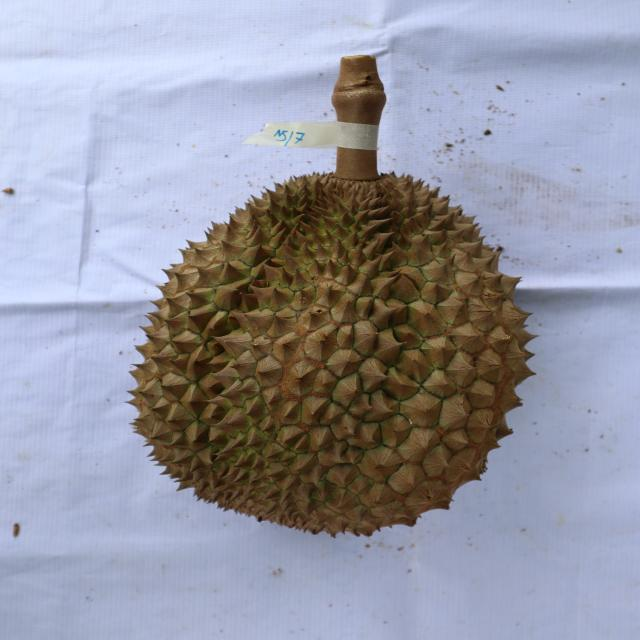mature: (125, 168, 539, 538)
